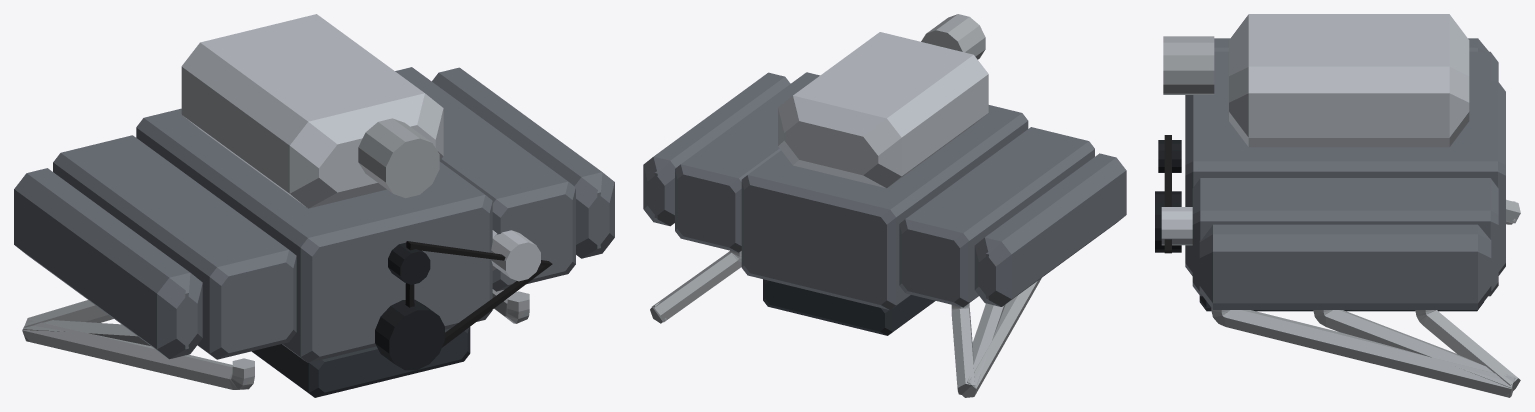
Rendered from crate_kmw_flat6_30.glb.
The picture shows the model from 3 angles, left to right: view 1: azimuth 30°, elevation 25°; view 2: azimuth 150°, elevation 25°; view 3: azimuth 270°, elevation 25°; orthographic projection. The views are drawn at different scales.
Parts seen in each view (by area): view 1: model; view 2: model; view 3: model.
Boxes of the visible parts, left/top/right/bottom form: model: left=14, top=14, right=614, bottom=397; model: left=643, top=14, right=1126, bottom=397; model: left=1155, top=14, right=1520, bottom=397.
Size of the model in its own units: 0.74 by 0.4513 by 0.5523.
3 materials, 1 textured.
